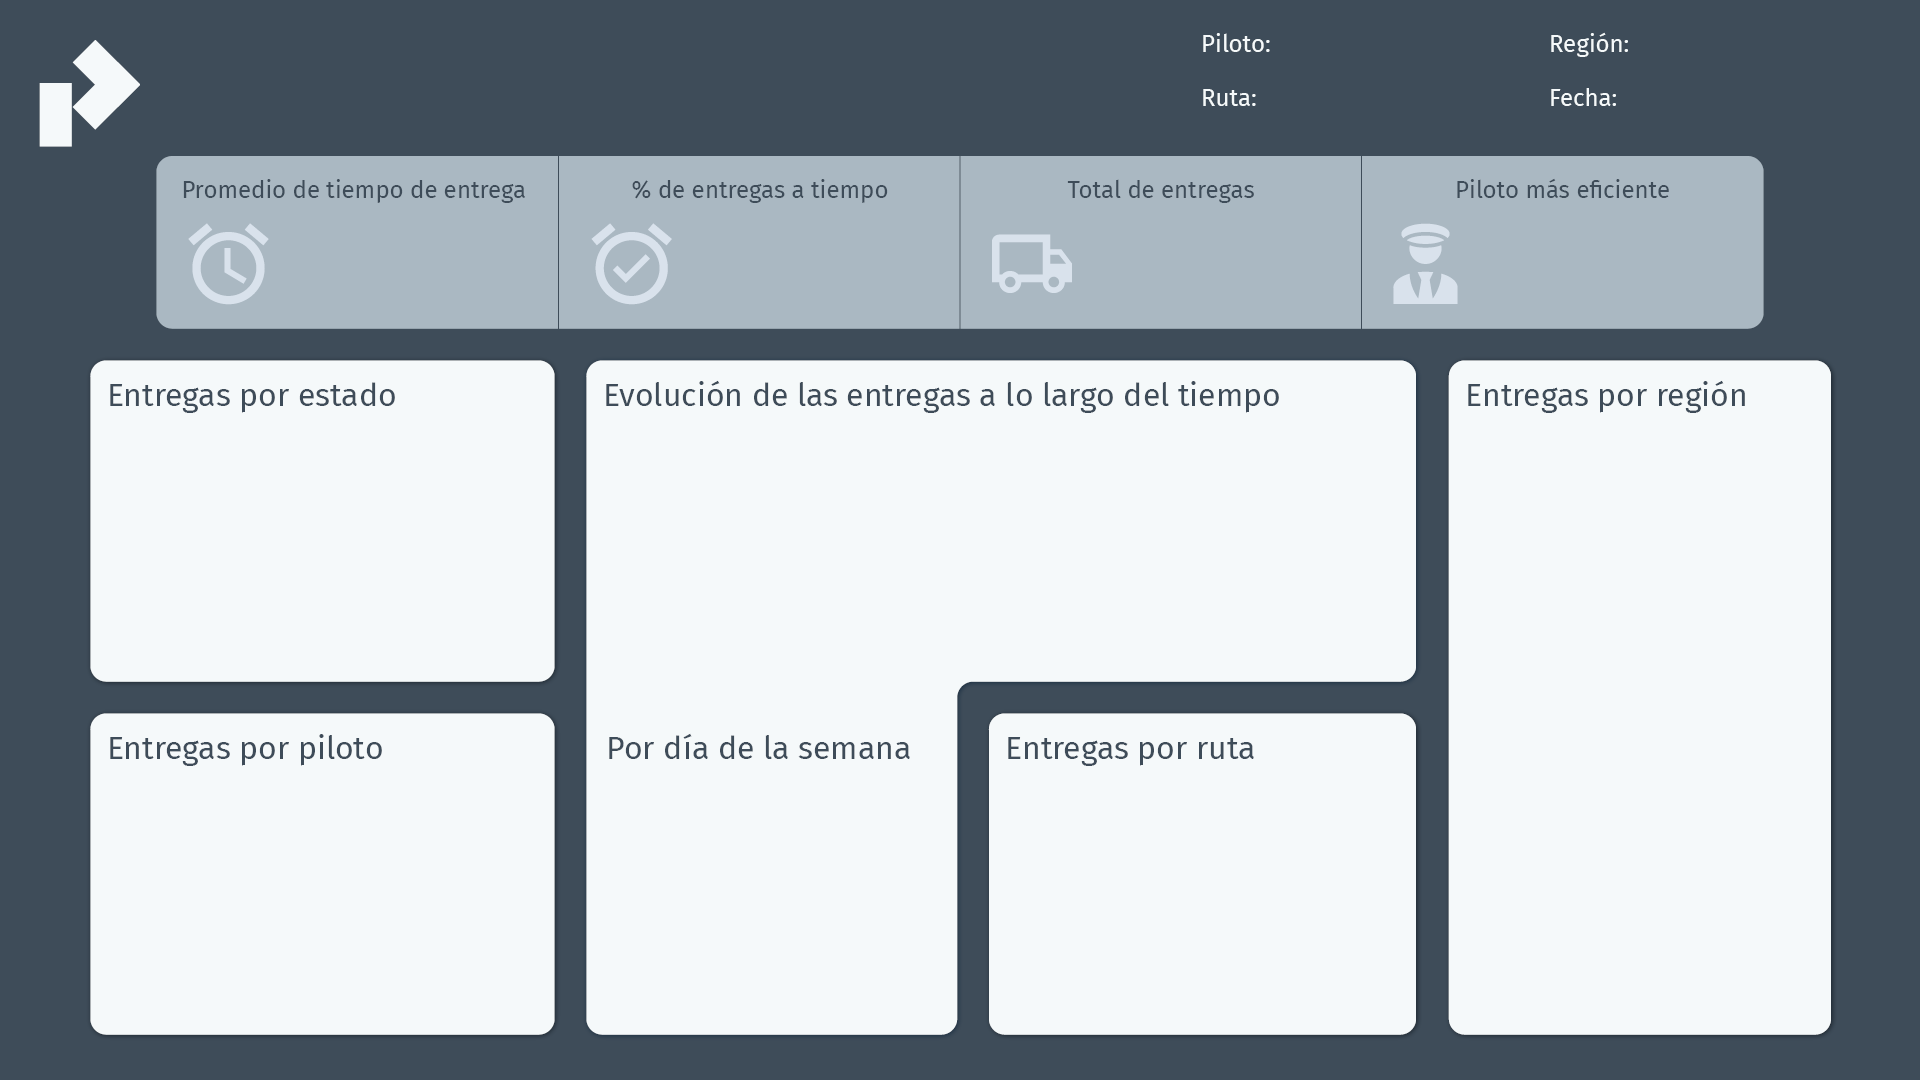

Layout of this report page (visuals, bound fields, positions):
{"tool":"powerbi","page":{"name":"HOME","canvas":[1920,1080],"ordinal":0},"visuals":[{"type":"donutChart","fields":{"Y":["Indicadores.ENVIOS"],"Category":["factLogistica.estado_entrega"]},"box":[87.2,408.2,467.7,270],"z":0},{"type":"barChart","fields":{"Category":["factLogistica.piloto"],"Y":["Indicadores.ENVIOS"],"Series":["factLogistica.estado_entrega"]},"box":[87.2,754.7,450.7,276.4],"z":1000},{"type":"lineChart","fields":{"Y":["Indicadores.ENVIOS"],"Category":["DimFecha.Date.Variación.Date Hierarchy.Year","DimFecha.Date.Variación.Date Hierarchy.Quarter","DimFecha.Date.Variación.Date Hierarchy.Month","DimFecha.Date.Variación.Date Hierarchy.Day"]},"box":[578.3,406.1,829.1,270],"z":2000},{"type":"map","fields":{"Category":["factLogistica.region"],"Size":["Indicadores.ENVIOS"]},"box":[1452,408.2,372,608],"z":3000},{"type":"card","fields":{"Values":["Indicadores.ENVIOS"]},"box":[1071.8,205.1,289.7,101],"z":4000},{"type":"slicer","fields":{"Values":["factLogistica.piloto"]},"box":[1273,12.2,203.8,43.8],"z":5000},{"type":"slicer","fields":{"Values":["factLogistica.ruta"]},"box":[1273,66.8,203.8,46.2],"z":6000},{"type":"slicer","fields":{"Values":["factLogistica.region"]},"box":[1633,12.9,205.4,43.1],"z":7000},{"type":"slicer","fields":{"Values":["DimFecha.Año-Mes"]},"box":[1633,66,205.4,46.9],"z":8000},{"type":"card","fields":{"Values":["Indicadores.TIEMPO ENTREGA TEXTO"]},"box":[260.5,204.4,300,101.7],"z":9000},{"type":"card","fields":{"Values":["Indicadores.ENTREGAS A TIEMPO %"]},"box":[666.1,203.8,300.3,102.2],"z":10000},{"type":"card","fields":{"Values":["Indicadores.PILOTO MAS EFICIENTE"]},"box":[1480.8,203.8,290.7,99],"z":11000},{"type":"clusteredColumnChart","fields":{"Y":["Indicadores.ENVIOS"],"Category":["DimFecha.Día de la semana"]},"box":[593,755,357,276],"z":12000},{"type":"treemap","fields":{"Values":["Indicadores.ENVIOS"],"Details":["factLogistica.ruta"]},"box":[999.2,761.1,408.2,255.1],"z":13000}]}

Visuals, with their boxes in screenshot pixels (x1, y1, x2, y2), scaled from the page's 1920x1080 canvas onto the 1920x1080 screenshot:
donutChart - Indicadores.ENVIOS x factLogistica.estado_entrega: region(87, 408, 555, 678)
barChart - factLogistica.piloto x Indicadores.ENVIOS: region(87, 755, 538, 1031)
lineChart - Indicadores.ENVIOS x DimFecha.Date.Variación.Date Hierarchy.Year: region(578, 406, 1407, 676)
map - factLogistica.region x Indicadores.ENVIOS: region(1452, 408, 1824, 1016)
card - Indicadores.ENVIOS: region(1072, 205, 1362, 306)
slicer - factLogistica.piloto: region(1273, 12, 1477, 56)
slicer - factLogistica.ruta: region(1273, 67, 1477, 113)
slicer - factLogistica.region: region(1633, 13, 1838, 56)
slicer - DimFecha.Año-Mes: region(1633, 66, 1838, 113)
card - Indicadores.TIEMPO ENTREGA TEXTO: region(260, 204, 560, 306)
card - Indicadores.ENTREGAS A TIEMPO %: region(666, 204, 966, 306)
card - Indicadores.PILOTO MAS EFICIENTE: region(1481, 204, 1772, 303)
clusteredColumnChart - Indicadores.ENVIOS x DimFecha.Día de la semana: region(593, 755, 950, 1031)
treemap - Indicadores.ENVIOS x factLogistica.ruta: region(999, 761, 1407, 1016)
